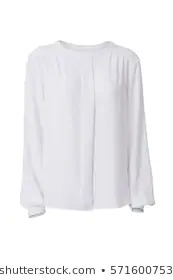S_blouse: (17, 37, 164, 226)
